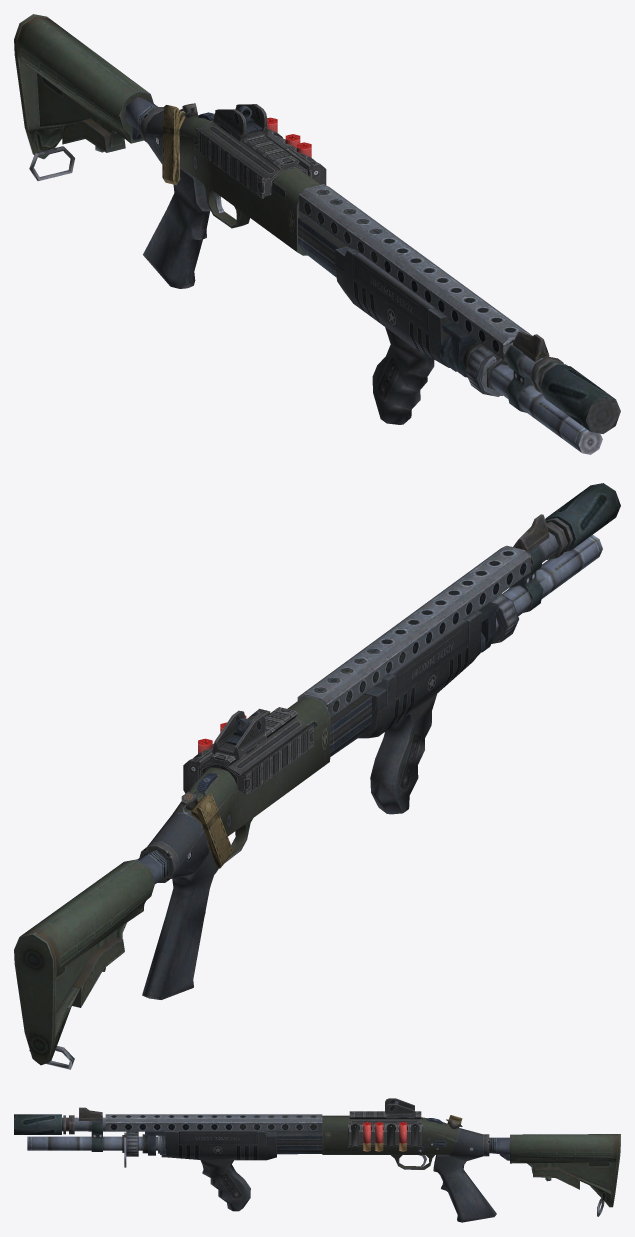
File: Shotgun_sdq_01_Body_Main_(000145).glb
3 views of the same model, one above another, from view 1: azimuth 30°, elevation 25°; view 2: azimuth 150°, elevation 25°; view 3: azimuth 270°, elevation 25° (orthographic). The views are drawn at different scales.
Visible parts, largest first — view 1: sdq_01; view 2: sdq_01; view 3: sdq_01.
Boxes of the visible parts, bbox=[...] form: sdq_01: bbox=[14, 14, 620, 454]; sdq_01: bbox=[14, 483, 620, 1069]; sdq_01: bbox=[14, 1098, 620, 1222].
Size of the model in its own units: 0.1168 by 0.3543 by 1.65.
1 material, 1 textured.
